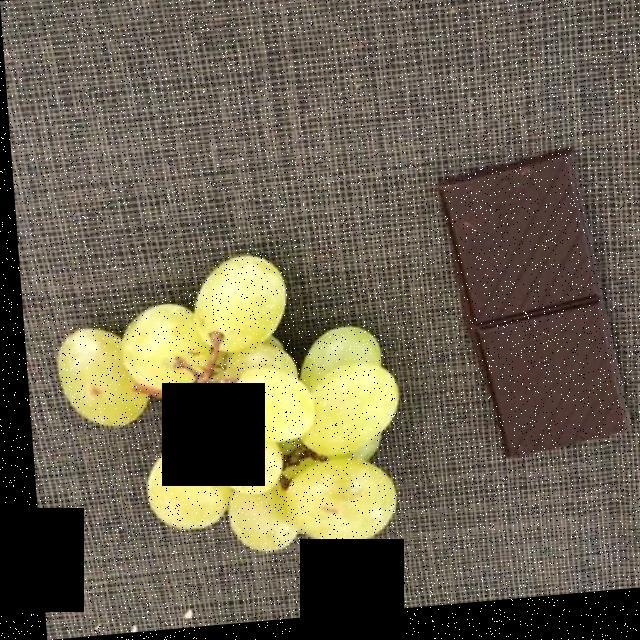chocolate: (432, 153, 629, 466)
grapes: (57, 259, 394, 553)
